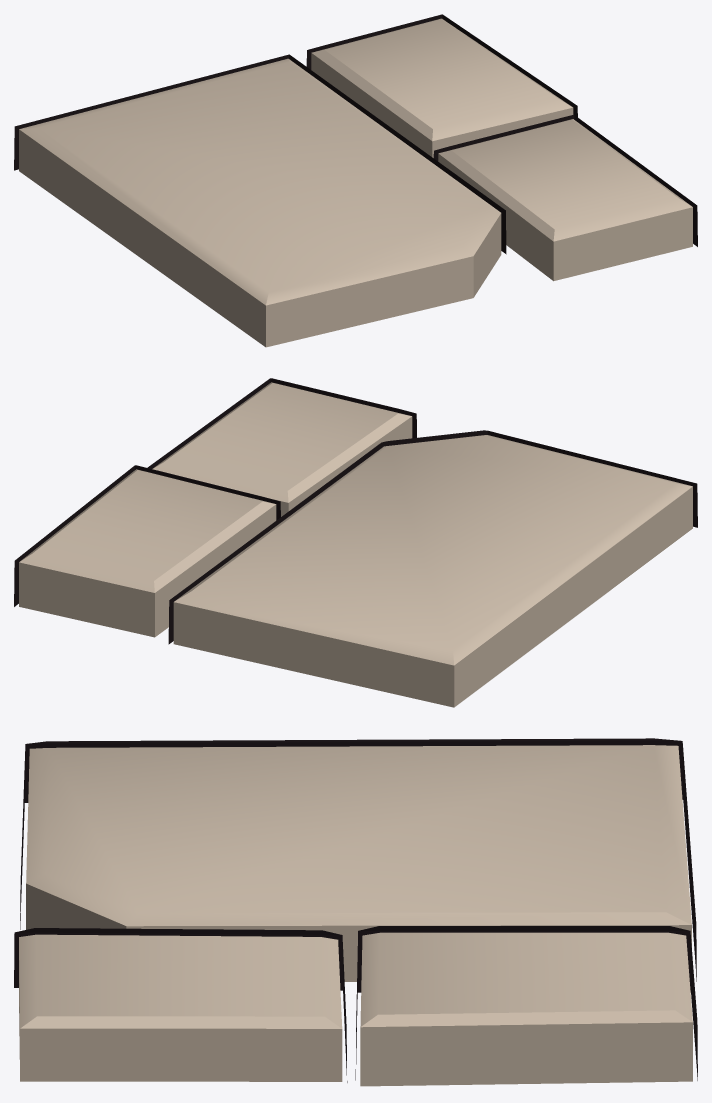
File: SM_RoadTile_04.fbx
3 views of the same model, one above another, from view 1: azimuth 30°, elevation 25°; view 2: azimuth 150°, elevation 25°; view 3: azimuth 270°, elevation 25° (orthographic). The views are drawn at different scales.
Parts seen in each view (by area): view 1: SM_RoadTile_04; view 2: SM_RoadTile_04; view 3: SM_RoadTile_04.
Part boxes in pixels (left/top/right/bottom): SM_RoadTile_04: left=14, top=14, right=697, bottom=347; SM_RoadTile_04: left=14, top=378, right=697, bottom=707; SM_RoadTile_04: left=14, top=738, right=697, bottom=1086.
Size of the model in its own units: 0.9924 by 0.1165 by 0.9939.
